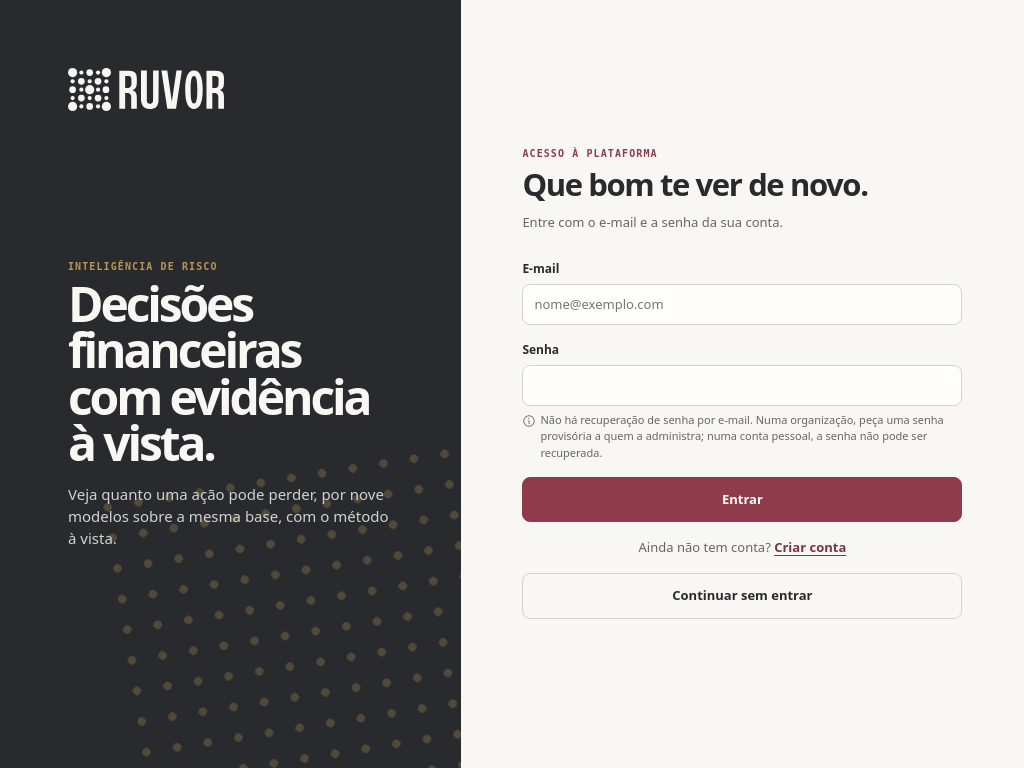
o campo vazio (RF-06) › só a senha vazia: o erro nela, foco nela, o e-mail sem erro, sem pedido
Type "ana@exemplo.com" into the field labelled "E-mail" at (742, 304), box [522,284,962,325]
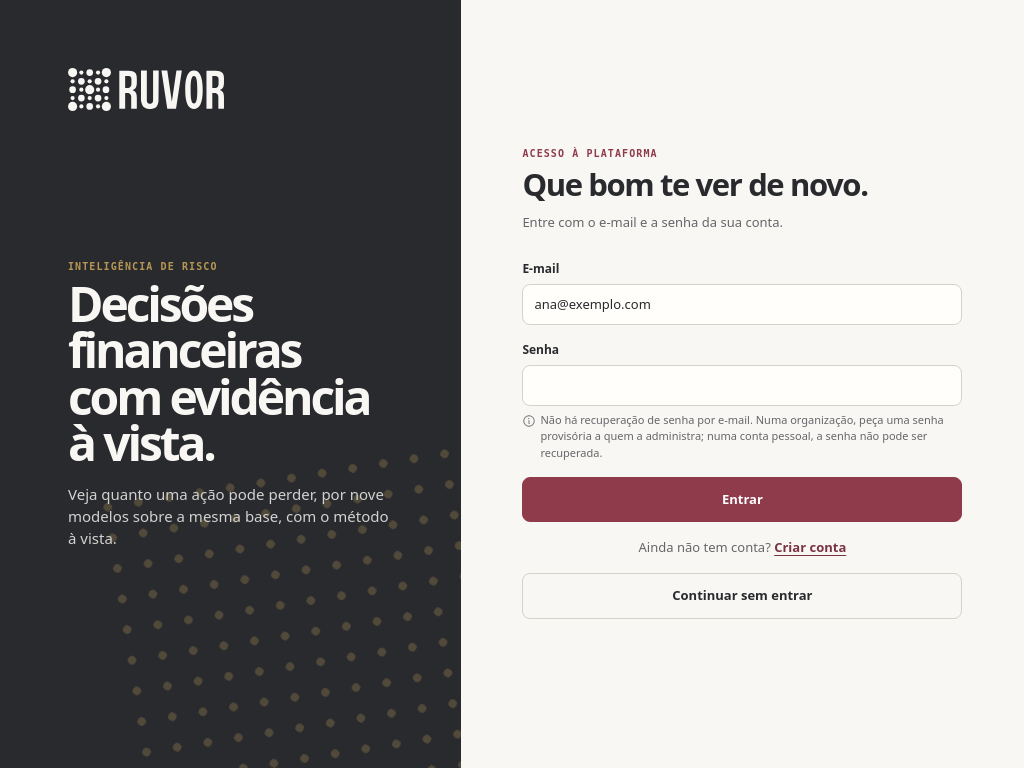
Click the button "Entrar" at (742, 500), box [522,477,962,522]
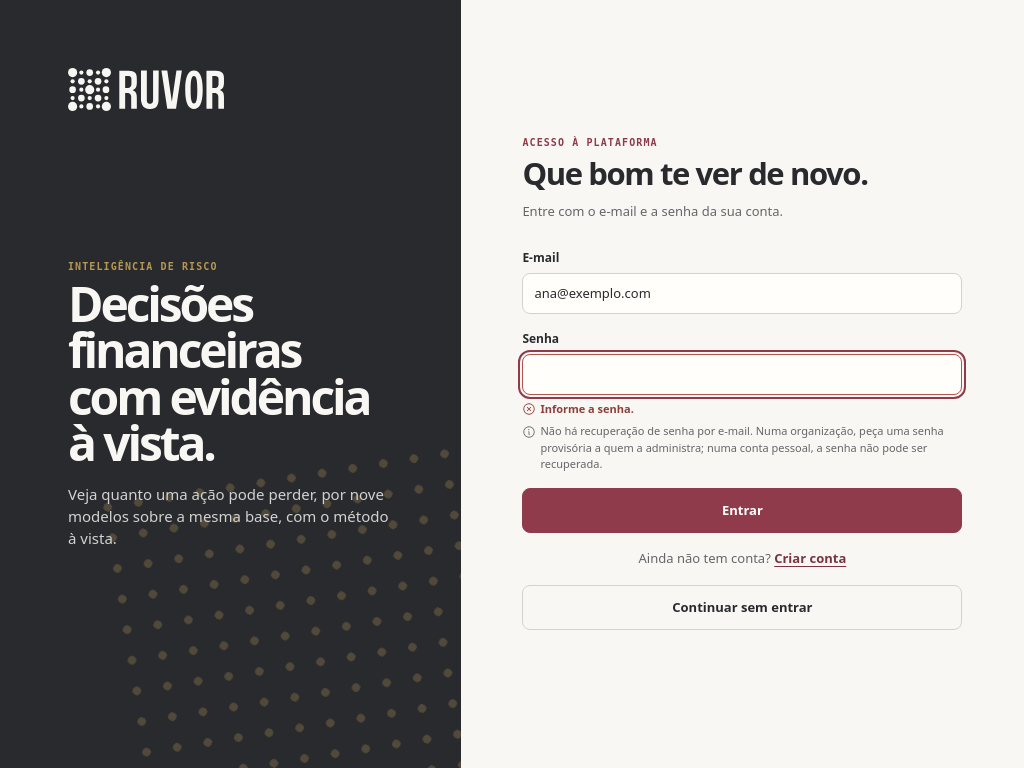
Expected: the text "Informe a senha." is shown, [540,401,634,417]
